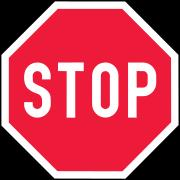Stop: (12, 2, 169, 171)
